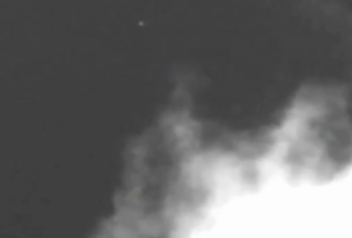Target: (139, 22, 143, 25)
